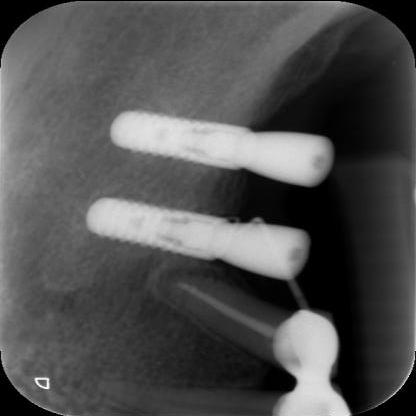ITI: (80, 192, 238, 265), (107, 108, 261, 173)
